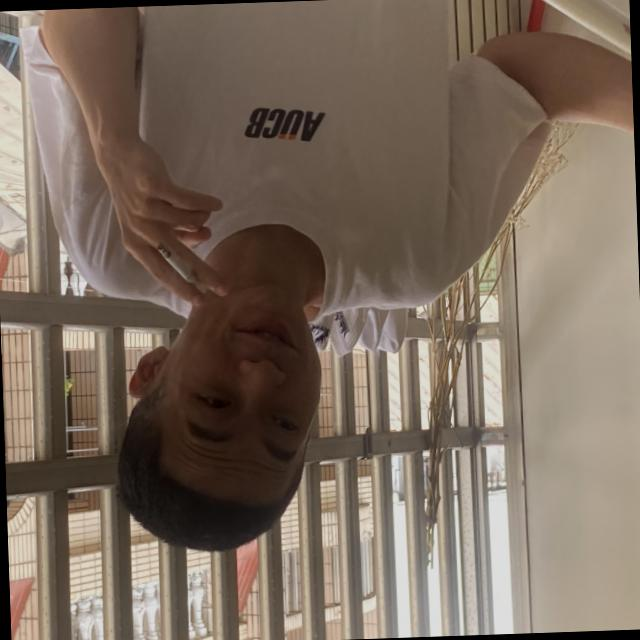smoke: (142, 226, 210, 304)
